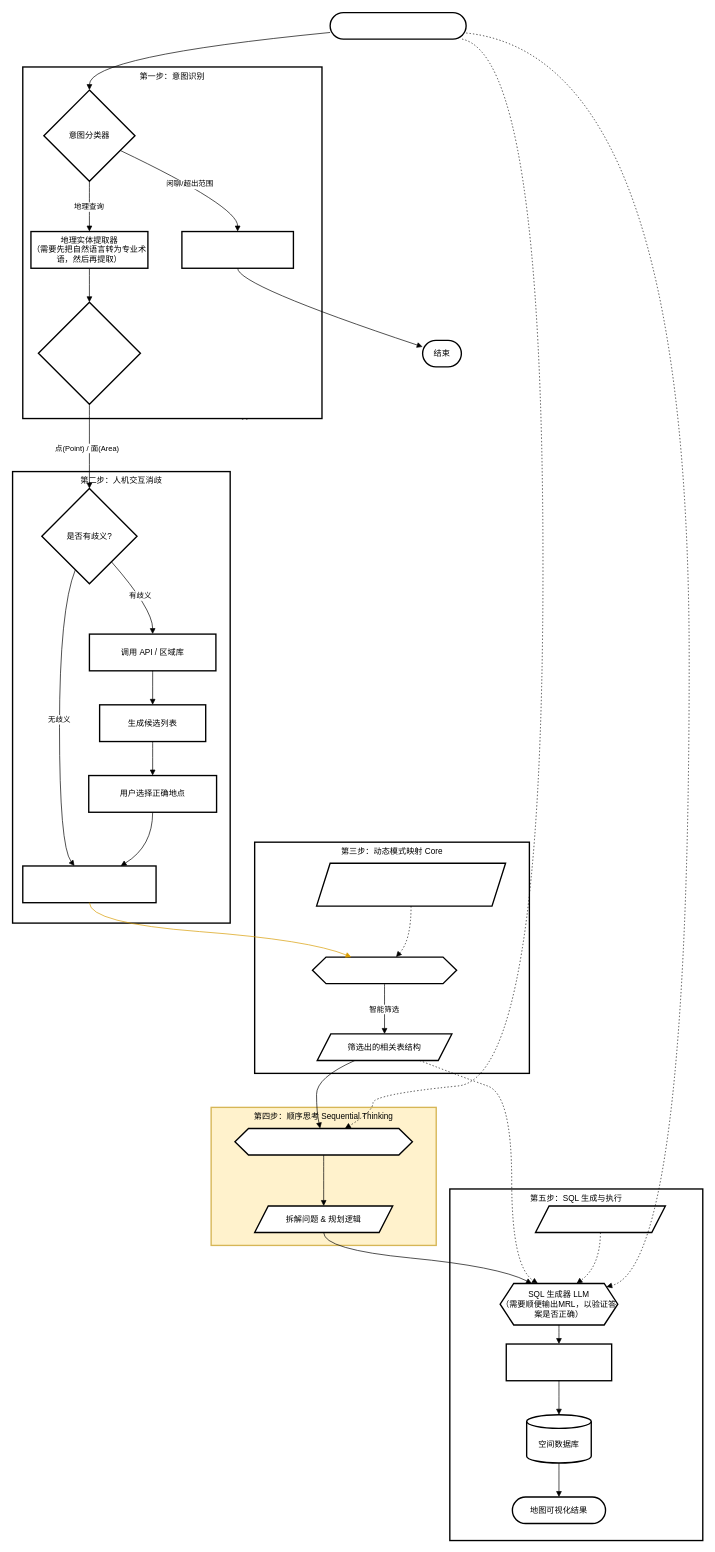
This 715x1552 diagram has some shape labels left out. The shapes that lost their labels are listed below. From the top down, each one's centre as x and y in pixels, then its label:
the point at 397,25: 用户输入自然语言 Query
the point at 237,250: 闲聊/无法回答
the point at 89,353: 判断实体类型
the point at 89,884: 获得精确坐标/边界
the point at 411,884: 数据库摘要 Schema Abstract
the point at 384,970: Schema Mapper LLM
the point at 323,1141: Sequential Thinking Agent
the point at 600,1219: PostGIS 指令与示例
the point at 558,1362: 可执行的 SQL
